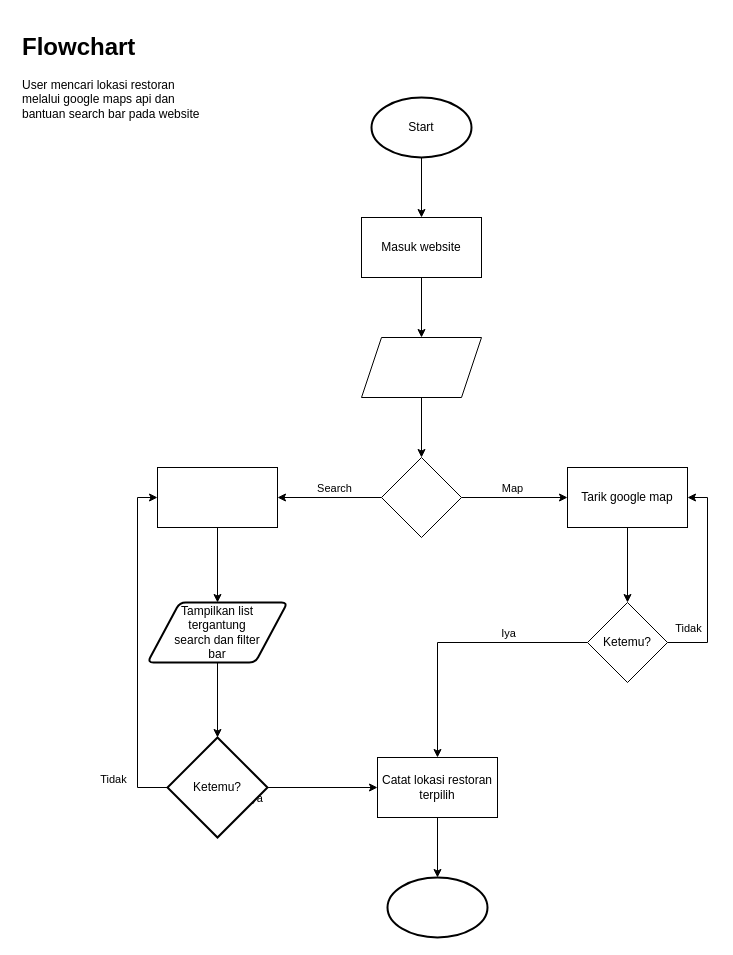
This 733x955 diagram has some shape labels left out. Here are the shapes that lost their labels. From the top down, the centre of each, then its label:
pixel 421 367: Tampilkan google maps api
pixel 217 497: Pilih filter (nama, lokasi, menu)
pixel 421 497: Metode pencarian
pixel 437 907: End
